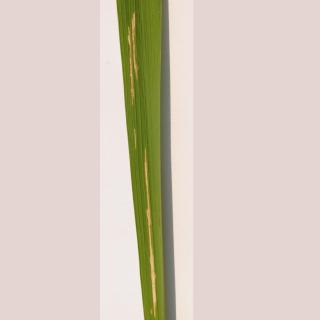Hawar-Daun: (138, 151, 162, 314), (117, 12, 150, 102), (126, 119, 146, 157)
